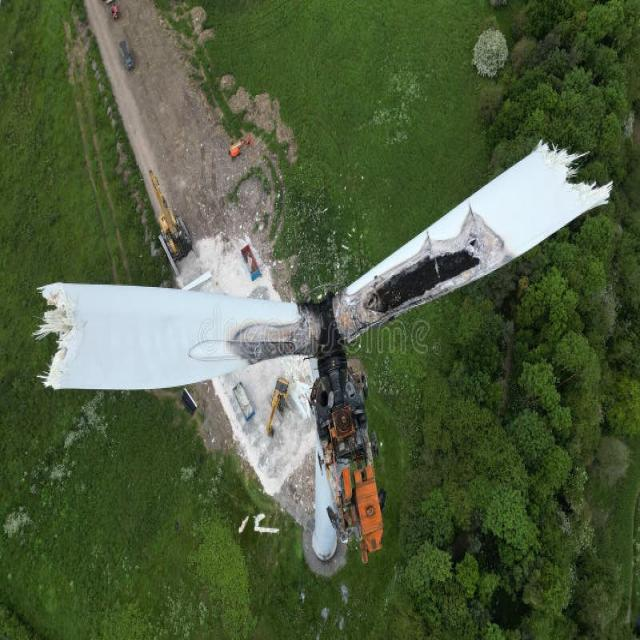damaged-blade: (334, 143, 611, 342), (39, 283, 321, 387), (40, 283, 300, 387)
